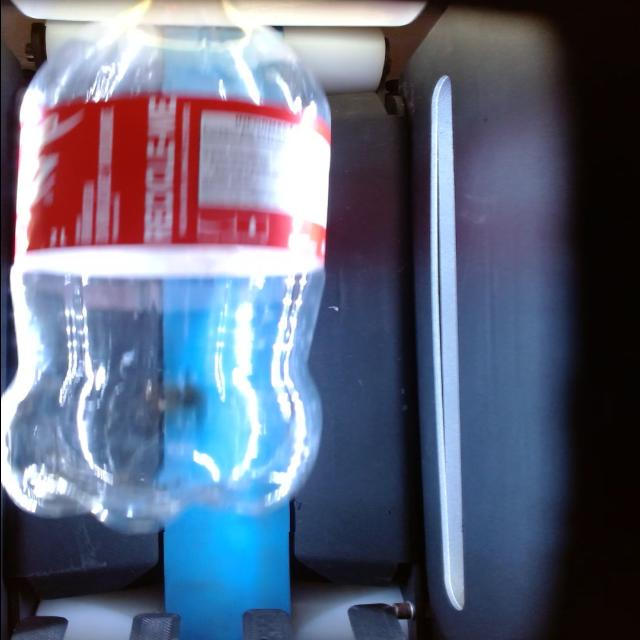bottle: (3, 27, 329, 532)
